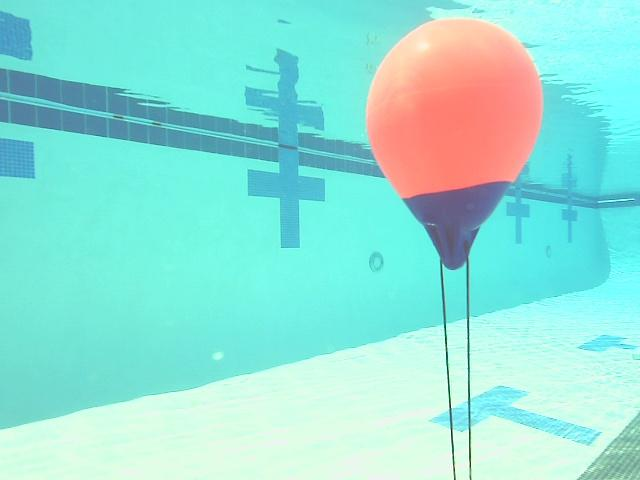buoy: (368, 18, 541, 268)
